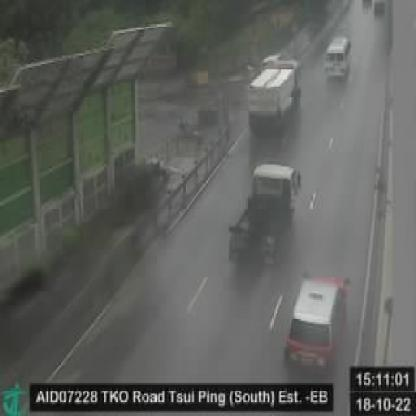Car: (284, 271, 351, 378), (323, 36, 353, 82)
Truck: (224, 165, 300, 280), (248, 58, 304, 140)
